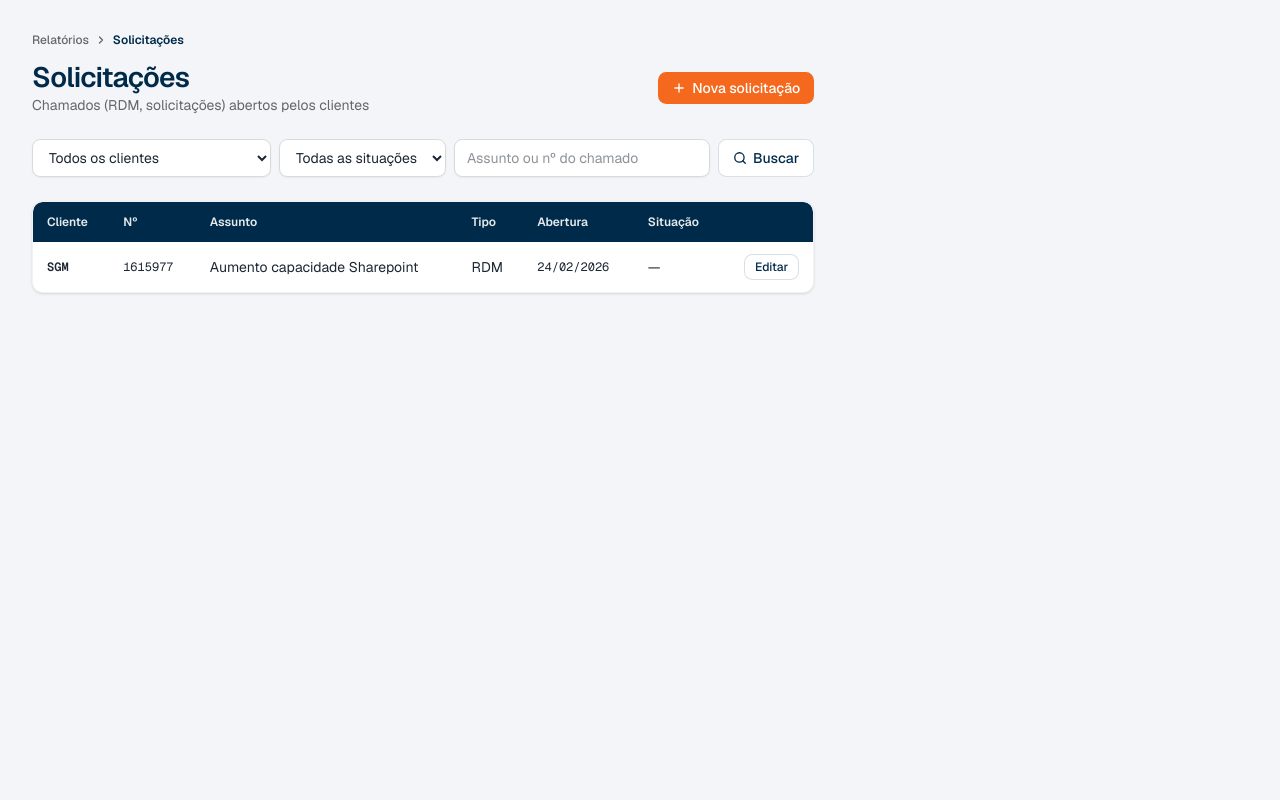
Test case: SolicitacoesPage › cadastra uma solicitação
Click the button "Nova solicitação" at (736, 88), box [658, 72, 814, 104]
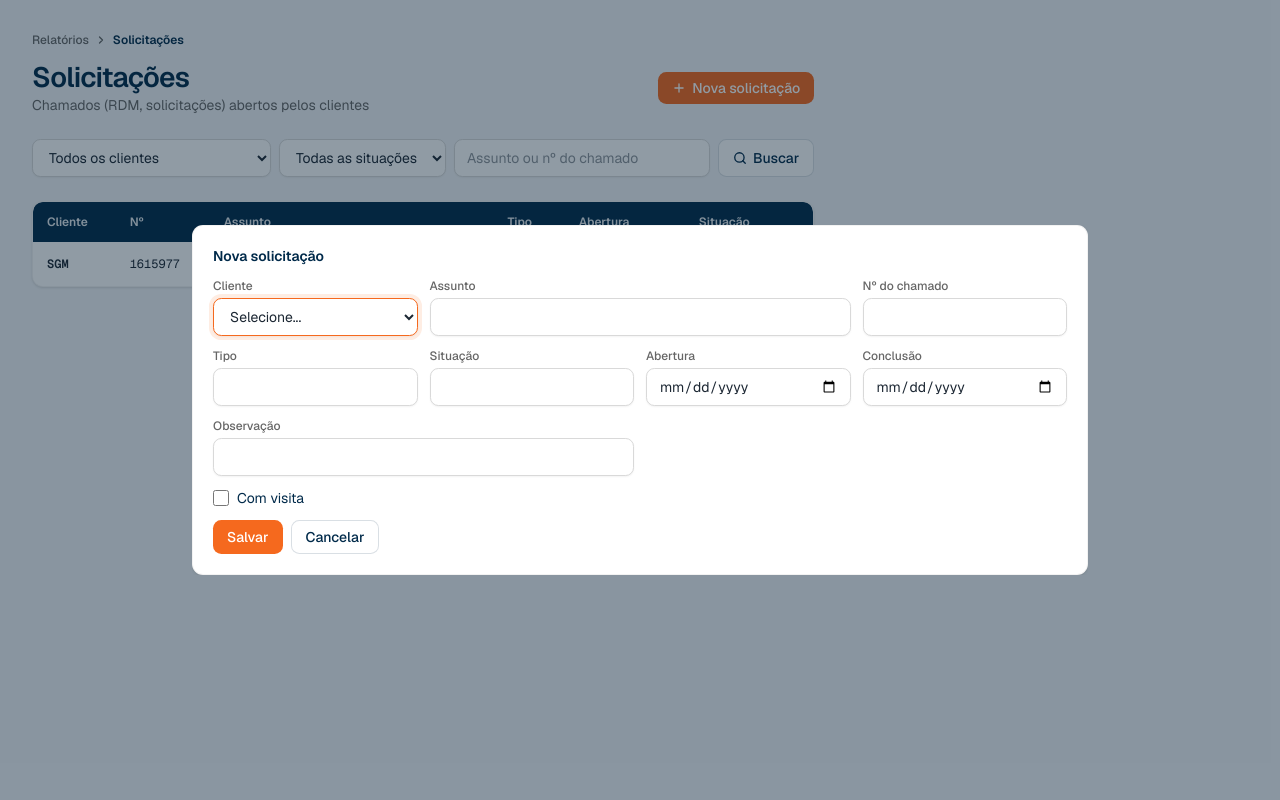
Select "SMS — Secretaria da Saúde" in the dropdown labelled "Cliente" at (315, 317), box [213, 298, 418, 336]
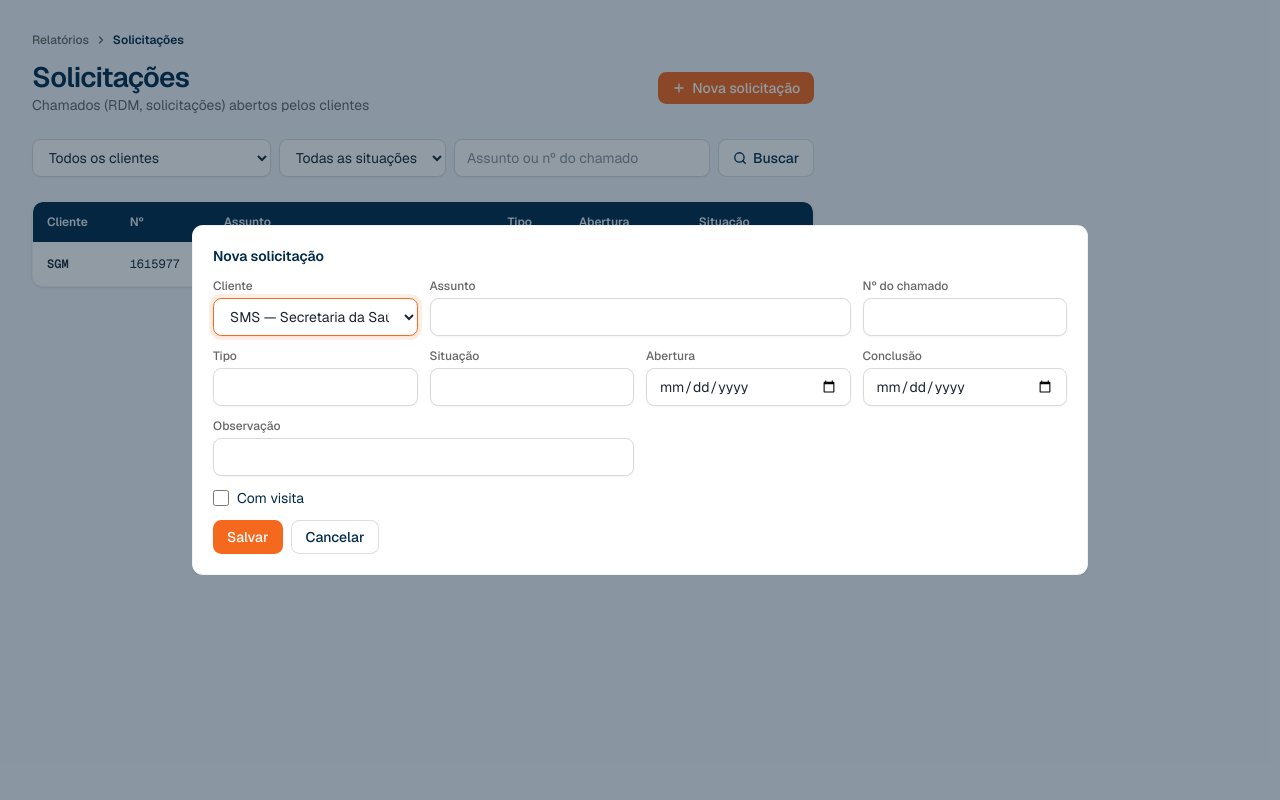
Type "Liberação acesso NAS" into the field labelled "Assunto" at (640, 317), box [430, 298, 850, 336]
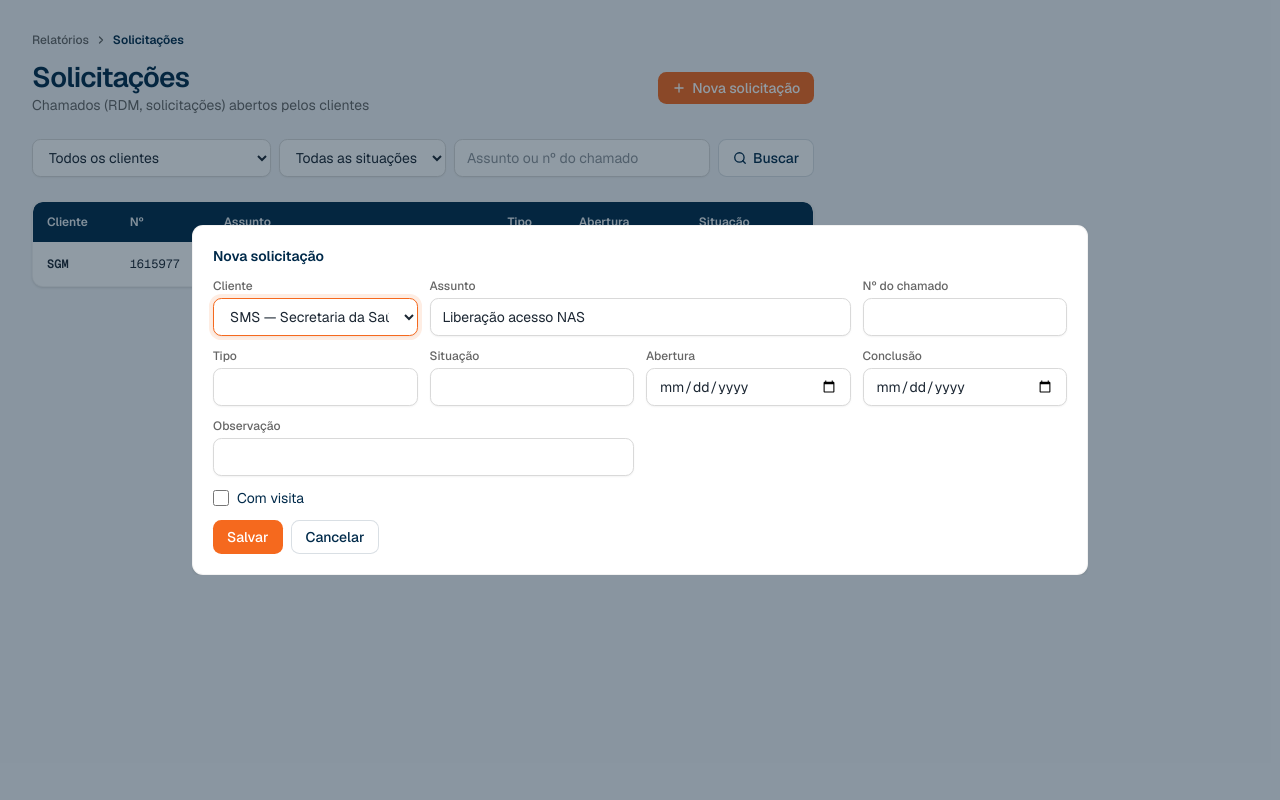
Type "1685569" into the field labelled "Nº do chamado" at (965, 317), box [862, 298, 1067, 336]
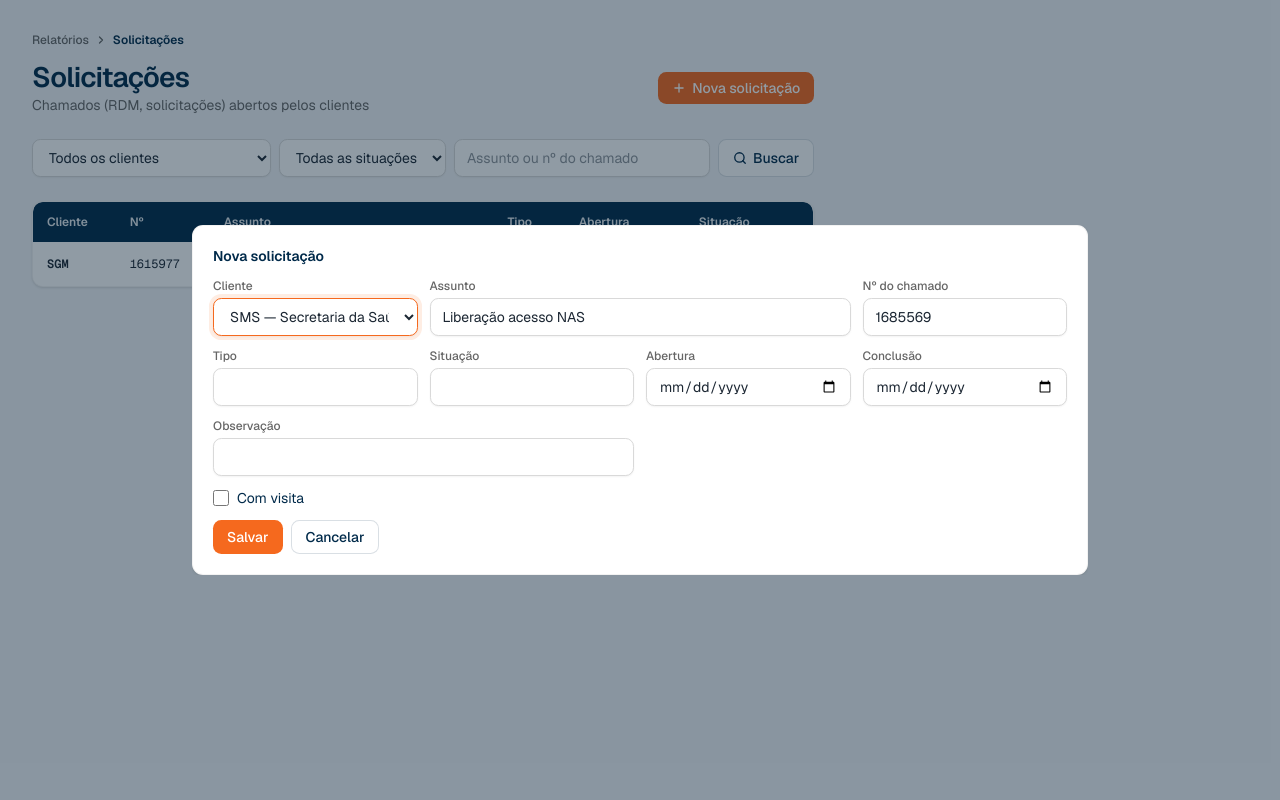
Click the button "Salvar" at (248, 537), box [213, 520, 282, 554]
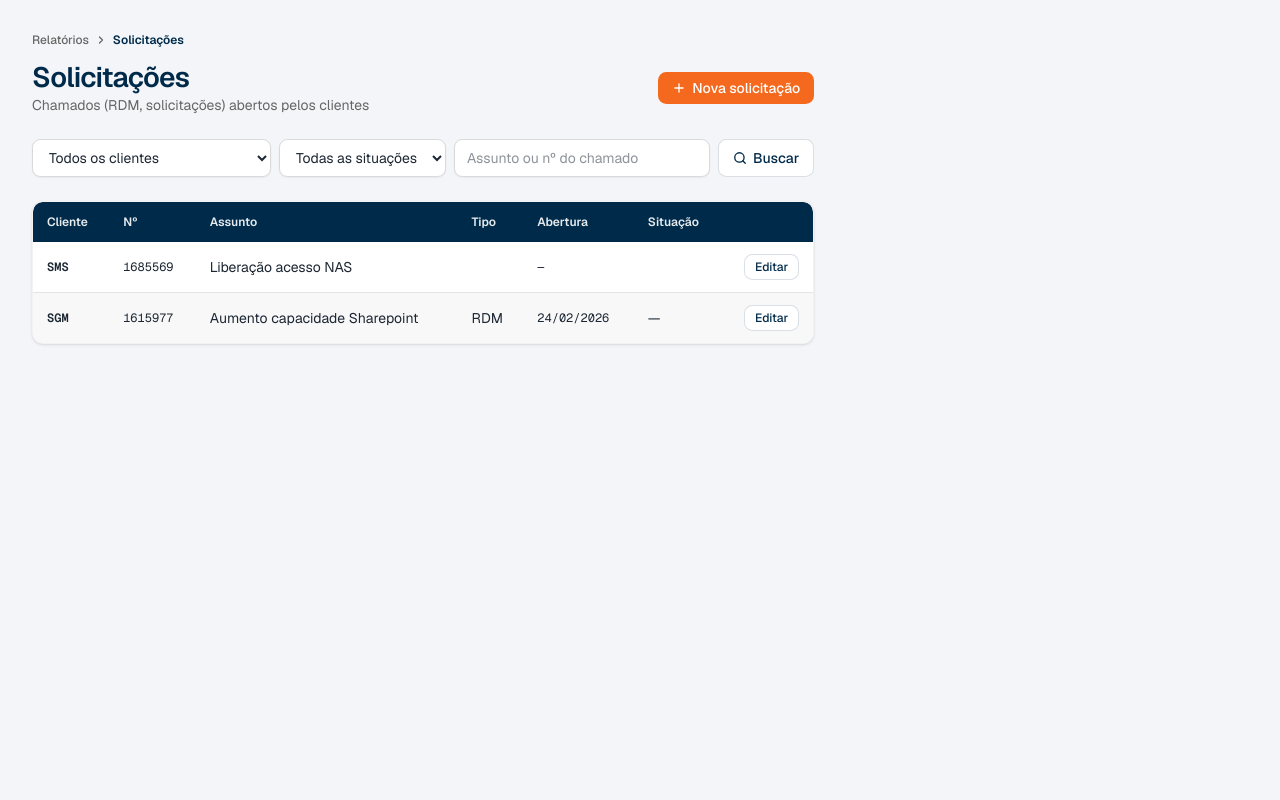
Check: the text "Liberação acesso NAS" is shown, box [196, 242, 457, 292]
